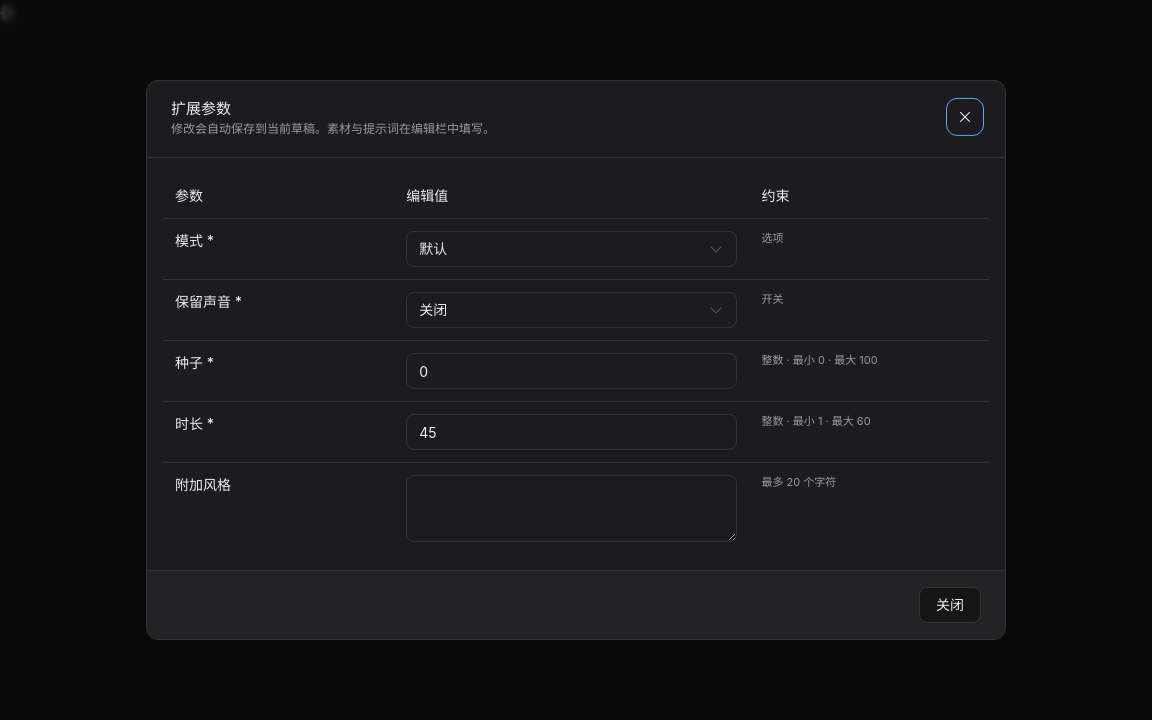
Test: WorkflowParametersDialog › places non-media, non-prompt fields in a table and preserves zero and false defaults with typed choices
expect the dropdown named "保留声音 *" holds "false": met, box [406,292,738,328]
expect the number field named "种子 *" holds "0": met, box [406,353,738,389]
Click the dropdown named "模式 *" at (433,249), box [406,231,738,267]
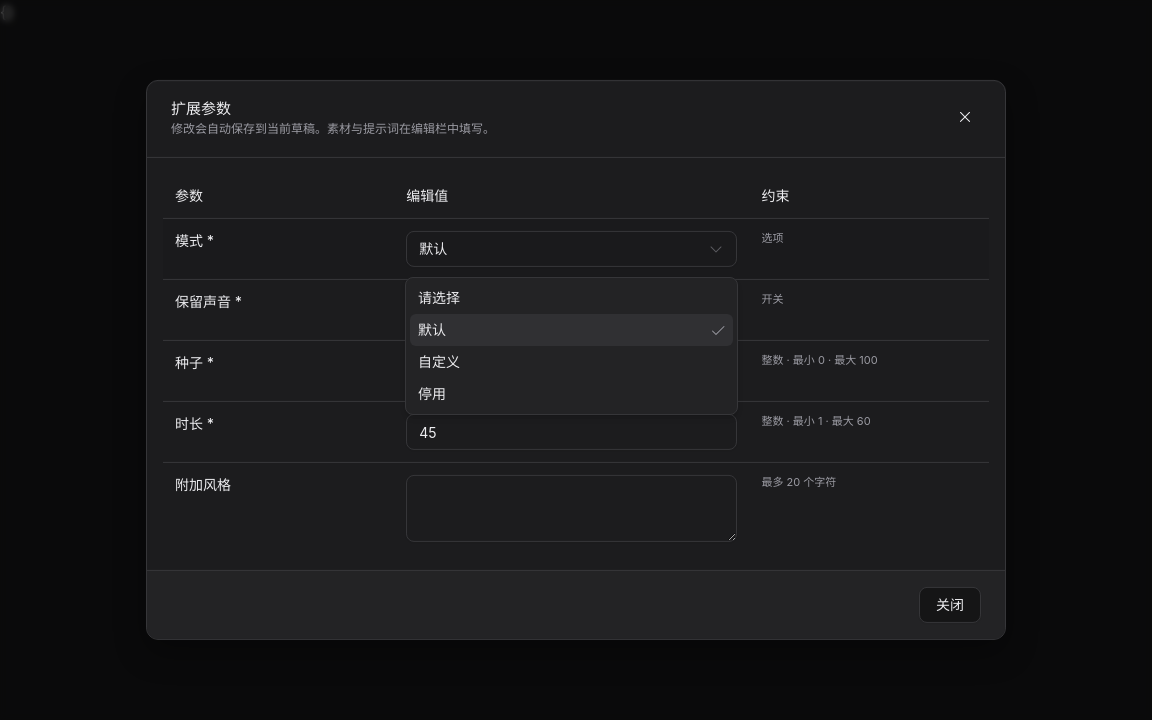
Click the option "自定义" at (439,362), box [418,353,460,370]
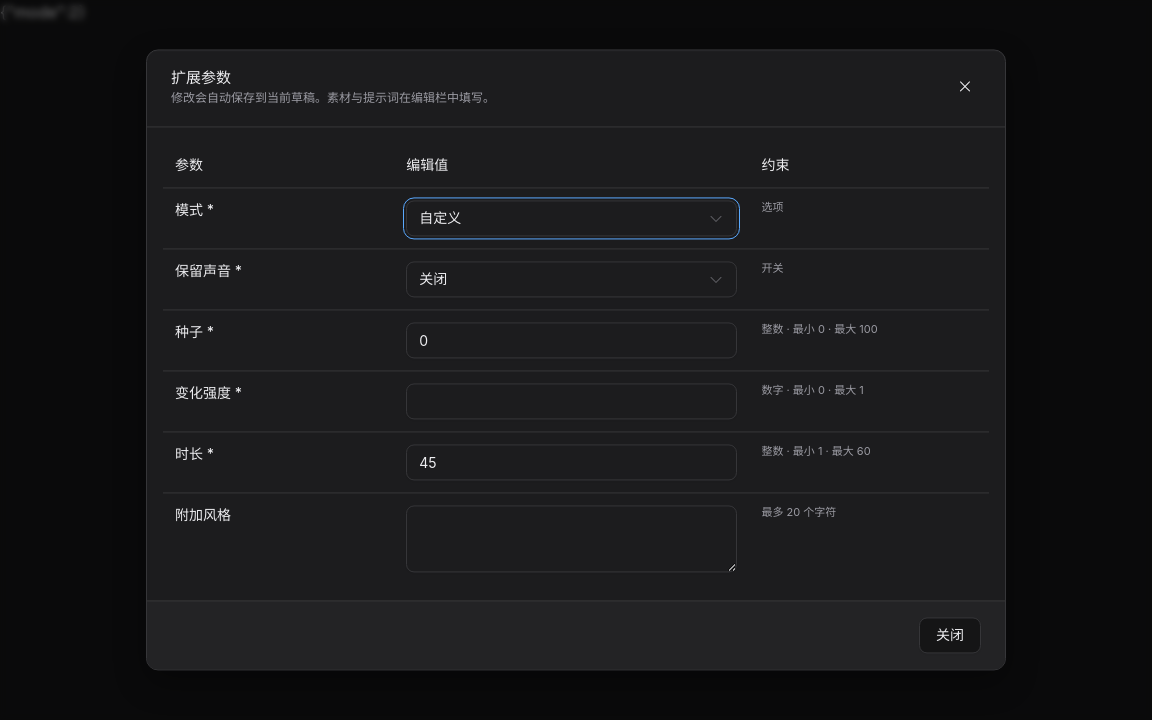
Type "0.5" into the number field named "变化强度 *" at (572,402), box [406,384,738,420]
Click the dropdown named "保留声音 *" at (433,279), box [406,262,738,298]
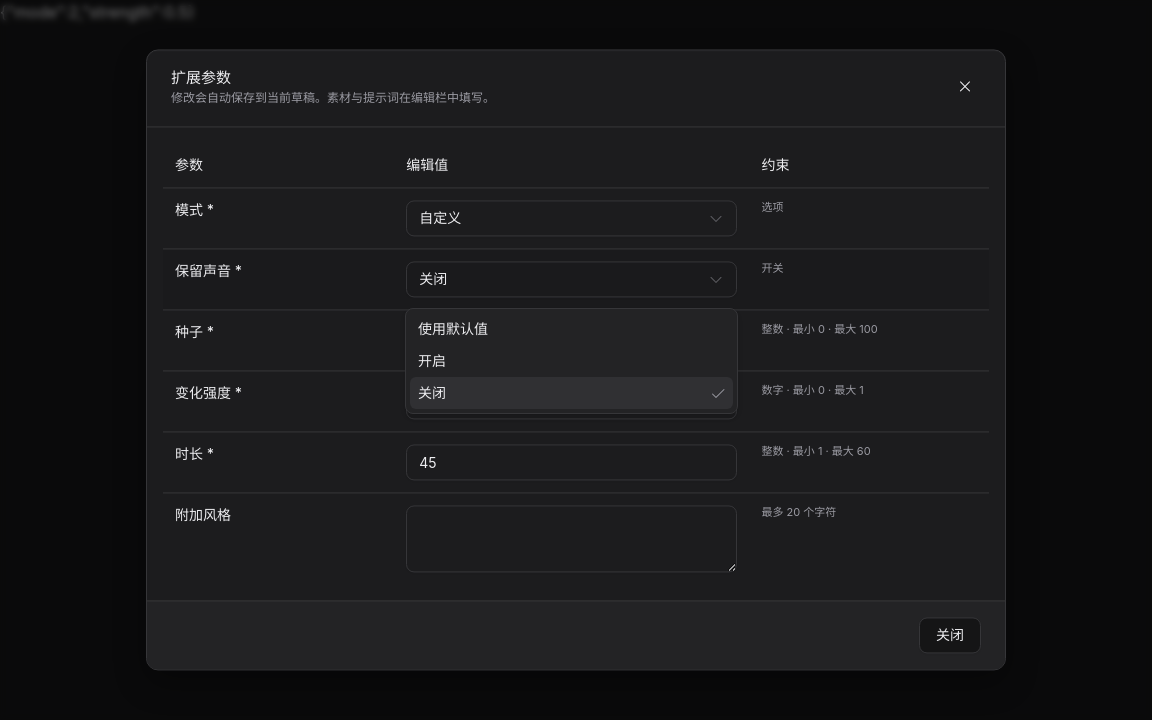
Click the option "开启" at (432,360), box [418,352,446,369]
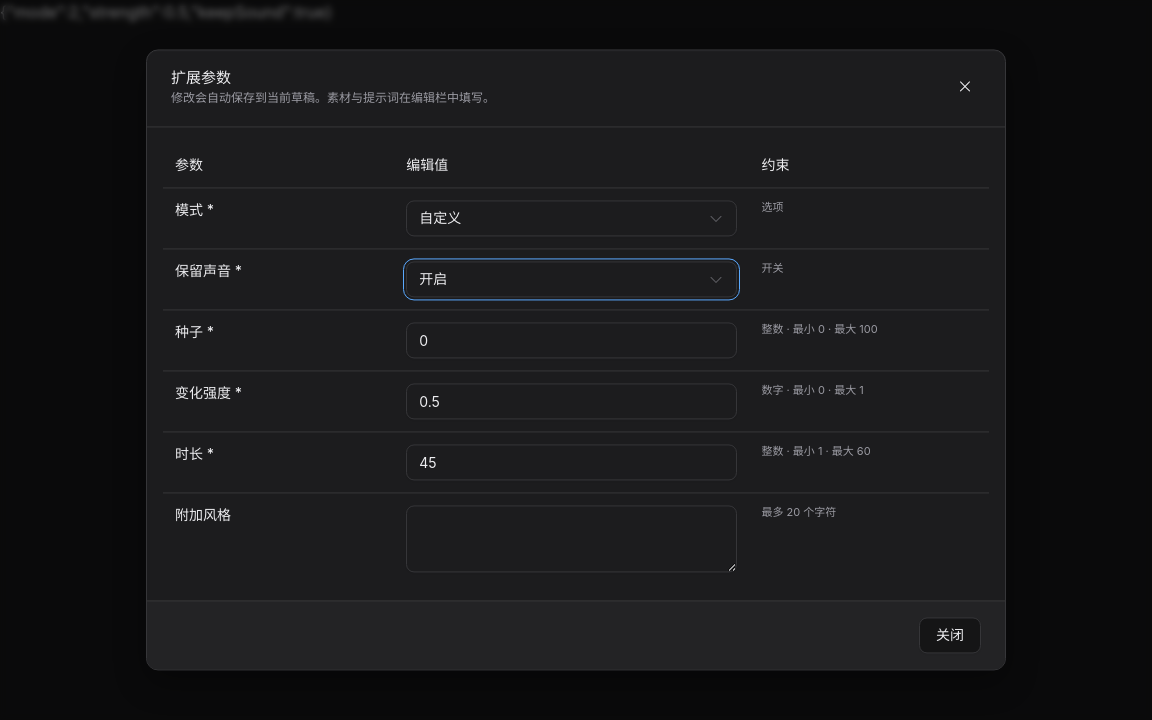
expect the text with test id "values" reads "{\"mode\":2,\"strength\":0.5,\"keepSound\":true}": met, box [0,2,332,22]
Click the dropdown named "模式 *" at (440,218), box [406,201,738,237]
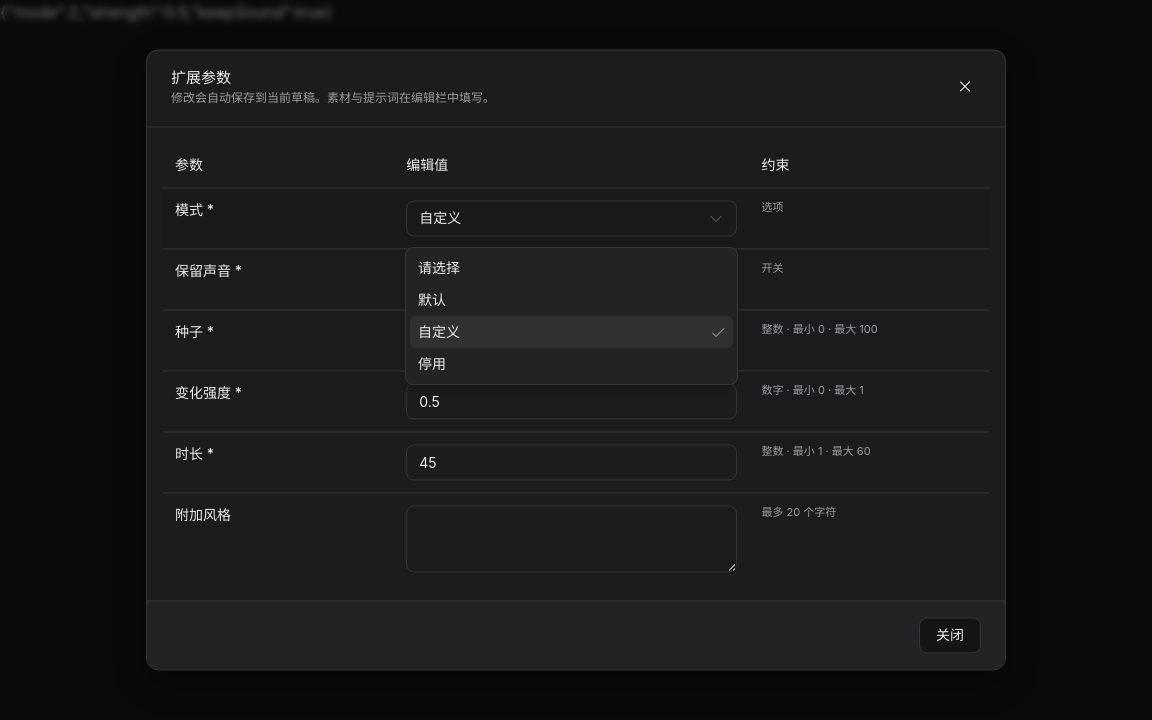
Click the option "停用" at (432,364), box [418,355,446,372]
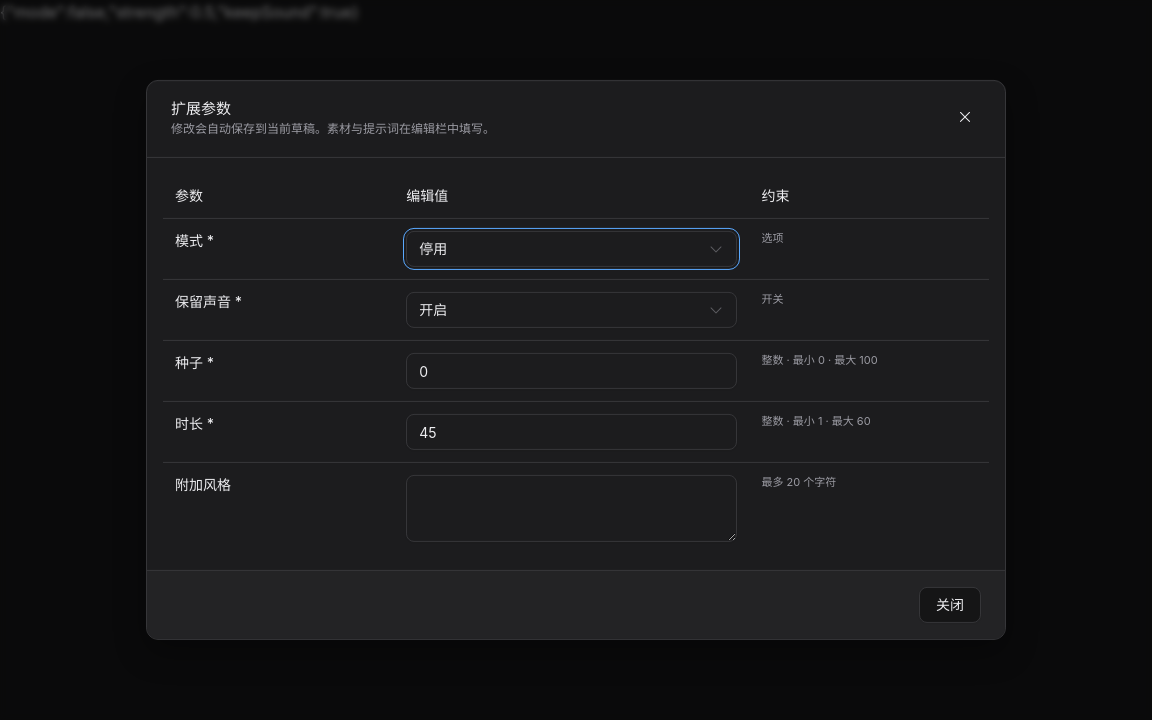
expect the text with test id "values" shows "\"mode\":false": met, box [0,2,359,22]
expect the text "变化强度 *" is gone: met
